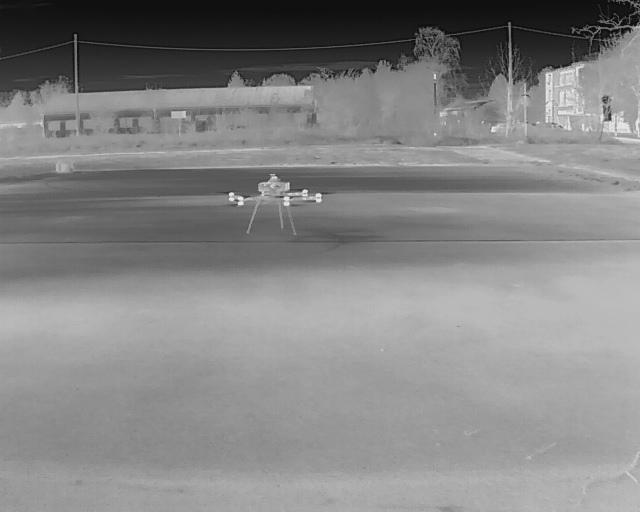drone: (205, 165, 340, 243)
